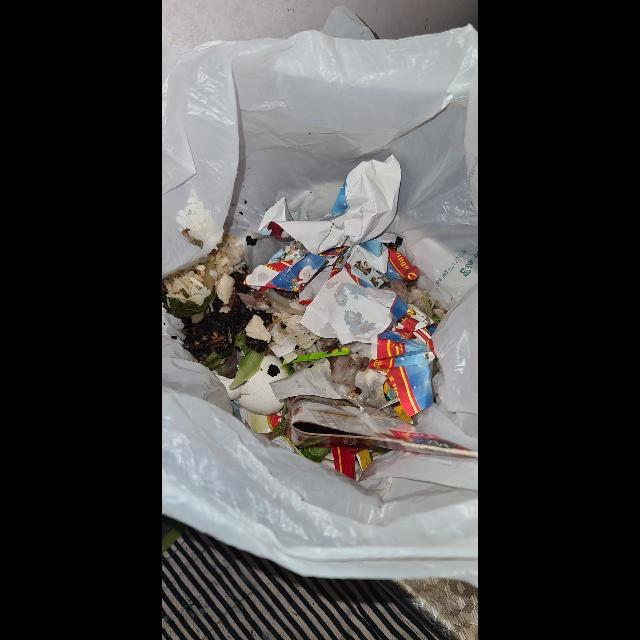paper: (300, 270, 436, 418), (257, 155, 401, 255), (244, 243, 351, 306), (344, 240, 421, 289)
